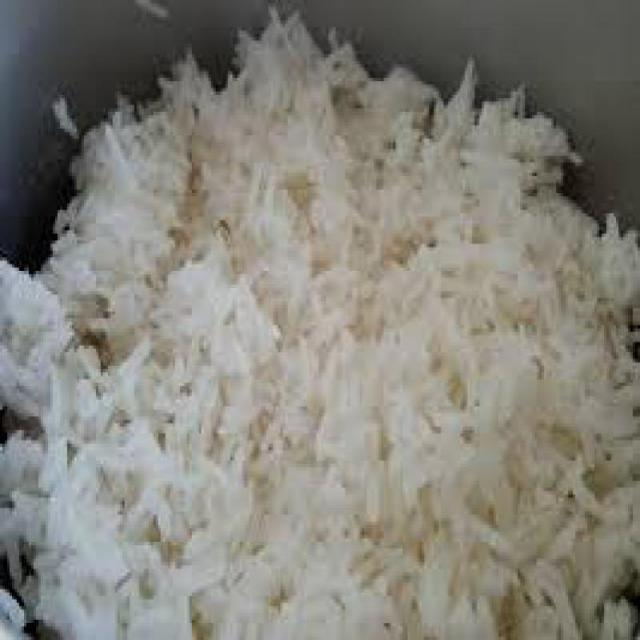rice: (0, 17, 639, 639)
